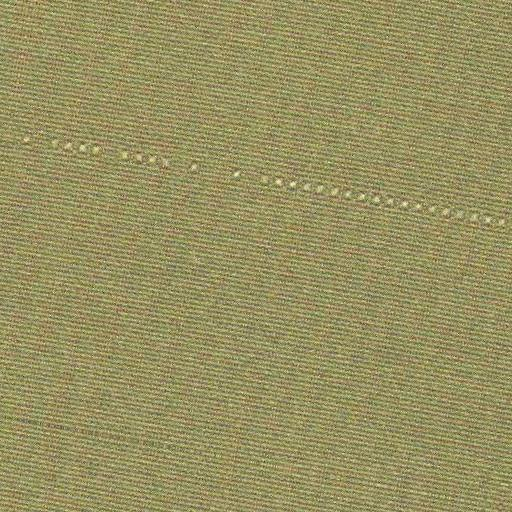slub: (16, 115, 510, 246)
